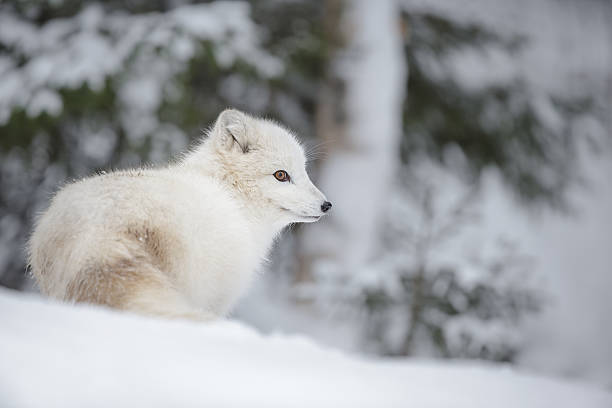arcticfox: (217, 128, 330, 236)
